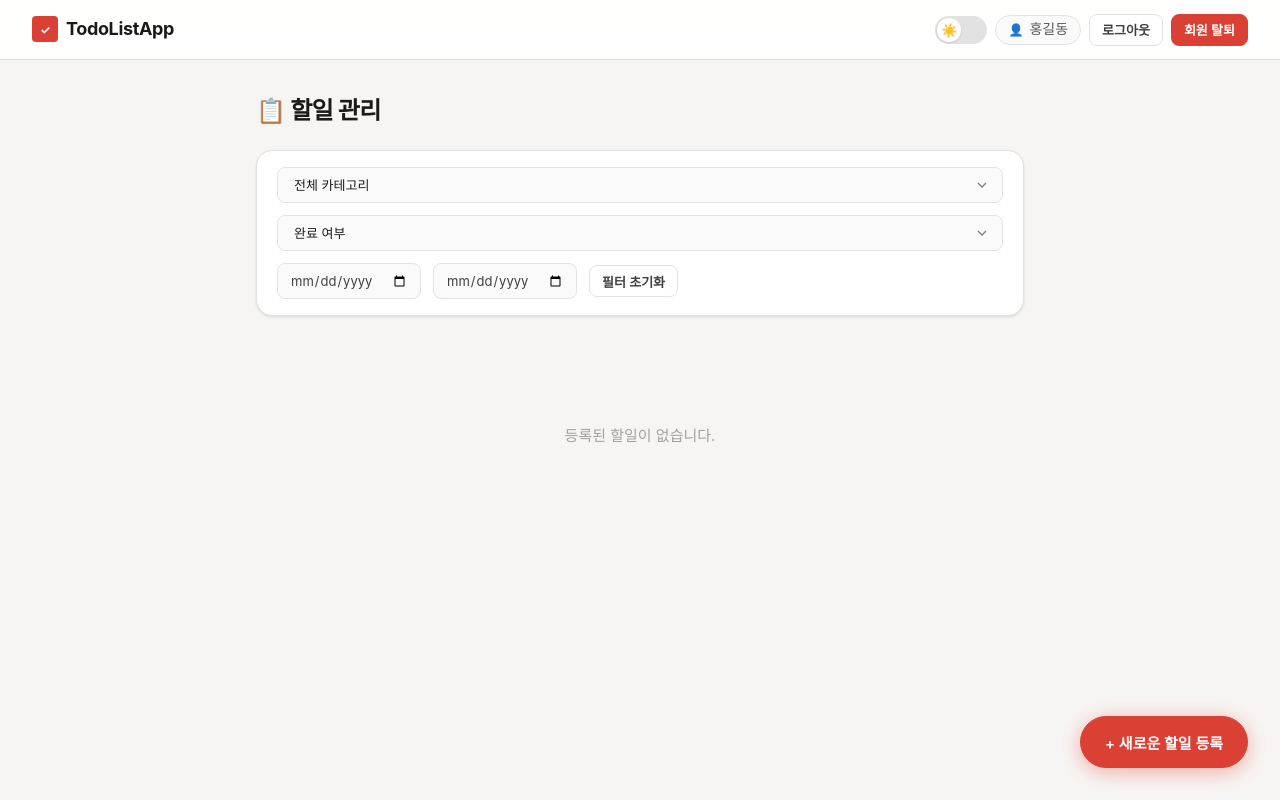
it: FE-12 회원 탈퇴 — 완료 조건 › 모달 취소 버튼 클릭 시 탈퇴가 진행되지 않는다
The image size is (1280, 800).
Click the button with test id "delete-account-button": (1209, 30) [1171,14,1248,46]
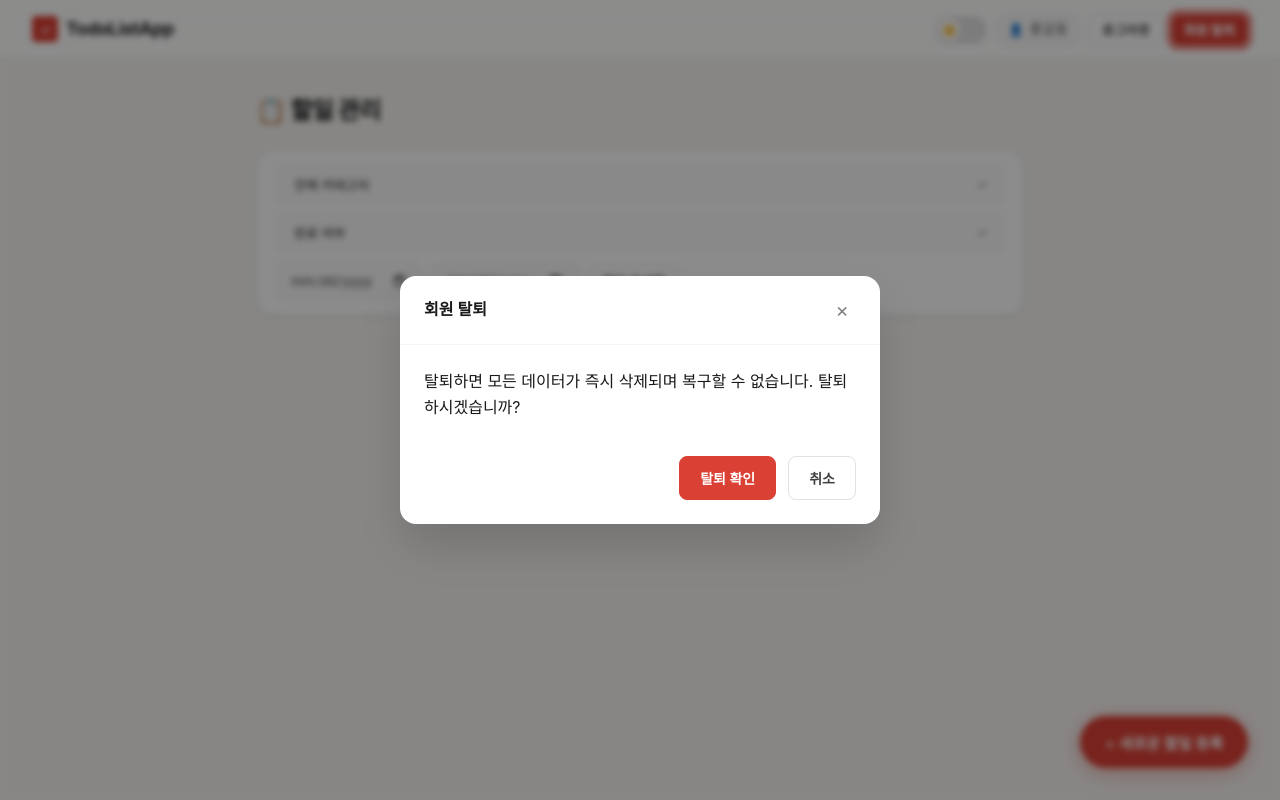
Click the button "취소": (822, 478) [788,456,856,500]
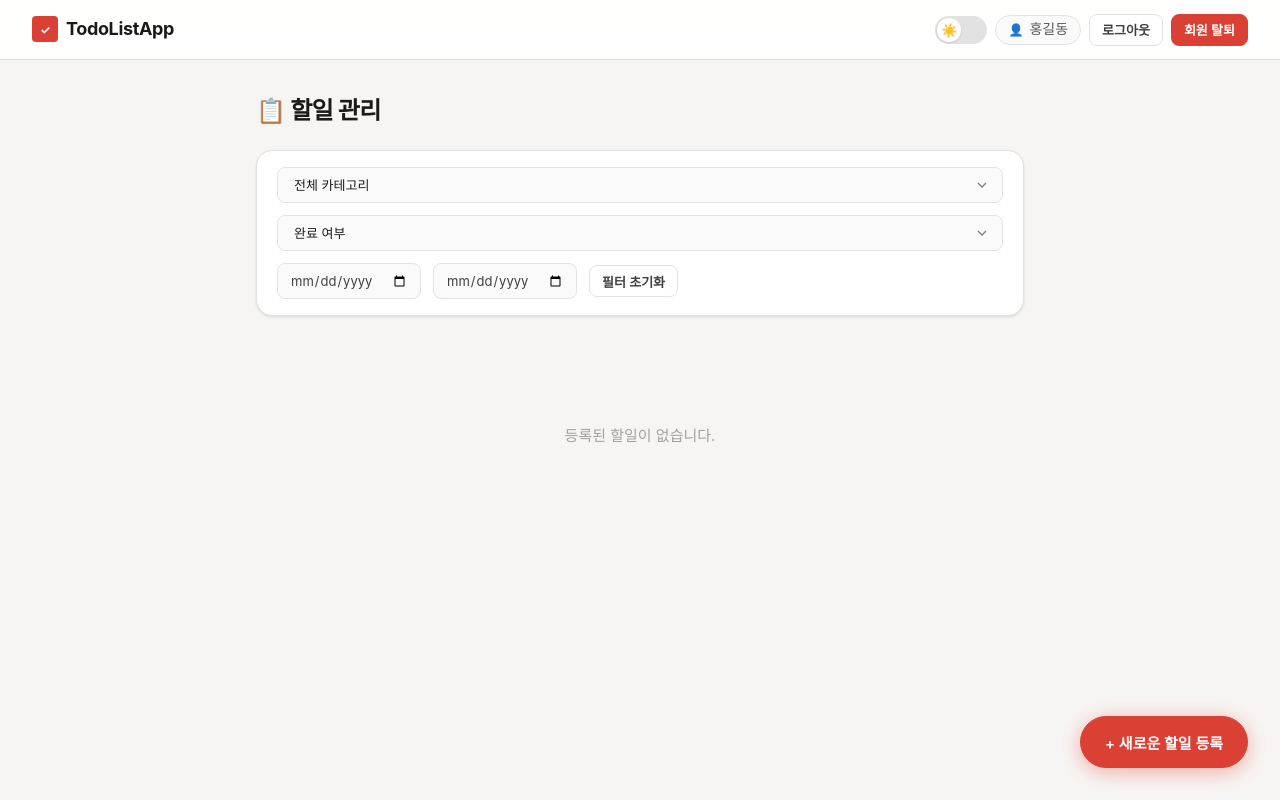
Result: the button with test id "confirm-delete-account" is gone
